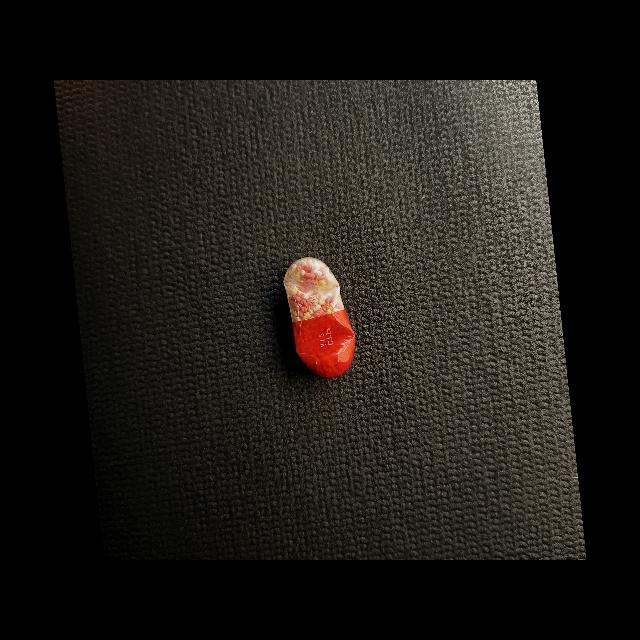Defective Capsule: (283, 257, 355, 379)
